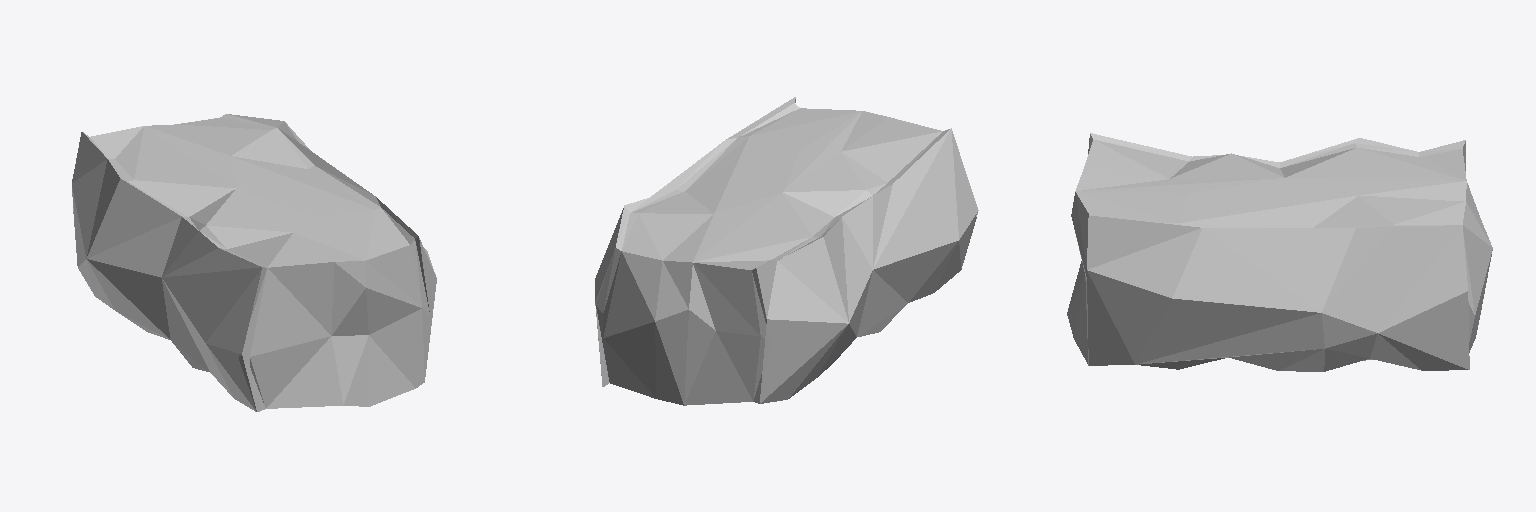
Rendered from boxes4.obj.
The picture shows the model from 3 angles: view 1: azimuth 30°, elevation 25°; view 2: azimuth 150°, elevation 25°; view 3: azimuth 270°, elevation 25°; orthographic projection.
Visible parts, largest first — view 1: BOX3; view 2: BOX3; view 3: BOX3.
Boxes of the visible parts, x1=… form: BOX3: x1=72, y1=114, x2=436, y2=411; BOX3: x1=595, y1=97, x2=978, y2=405; BOX3: x1=1067, y1=133, x2=1492, y2=371.
Size of the model in its own units: 1.66 by 1.01 by 2.45.